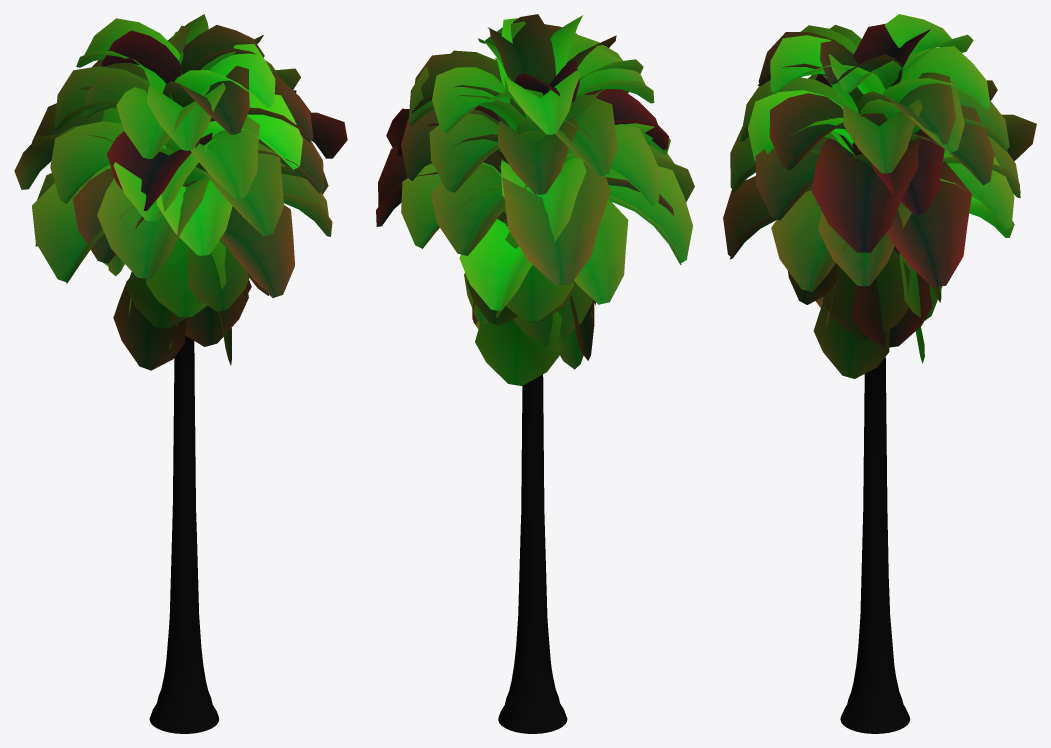
File: palm_ns4_mid.glb
The picture shows the model from 3 angles, left to right: view 1: azimuth 30°, elevation 25°; view 2: azimuth 150°, elevation 25°; view 3: azimuth 270°, elevation 25°; orthographic projection.
Visible parts, largest first — view 1: Tree_1; view 2: Tree_1; view 3: Tree_1.
Part boxes in pixels (<box>): Tree_1: <box>14,14,347,733</box>; Tree_1: <box>376,14,694,733</box>; Tree_1: <box>723,14,1036,733</box>.
Bounding box in the file's own units: 699 × 1594 × 660.
